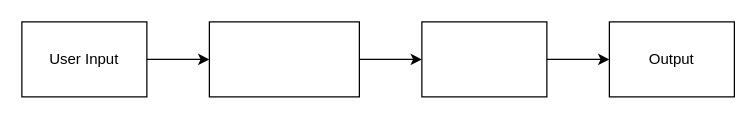
Image size: 756x119. Some labels were removed from this diagram. Here are the shapes that lost their labels. From the top down, the box of each, then its label:
(208, 21, 359, 97): Controller
(421, 21, 547, 97): Actuator
